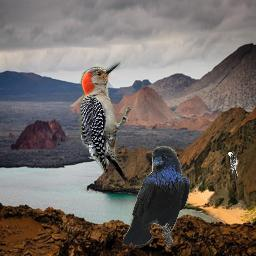Crow: (123, 146, 190, 248)
Woodpecker: (75, 59, 131, 193), (226, 150, 240, 180)
